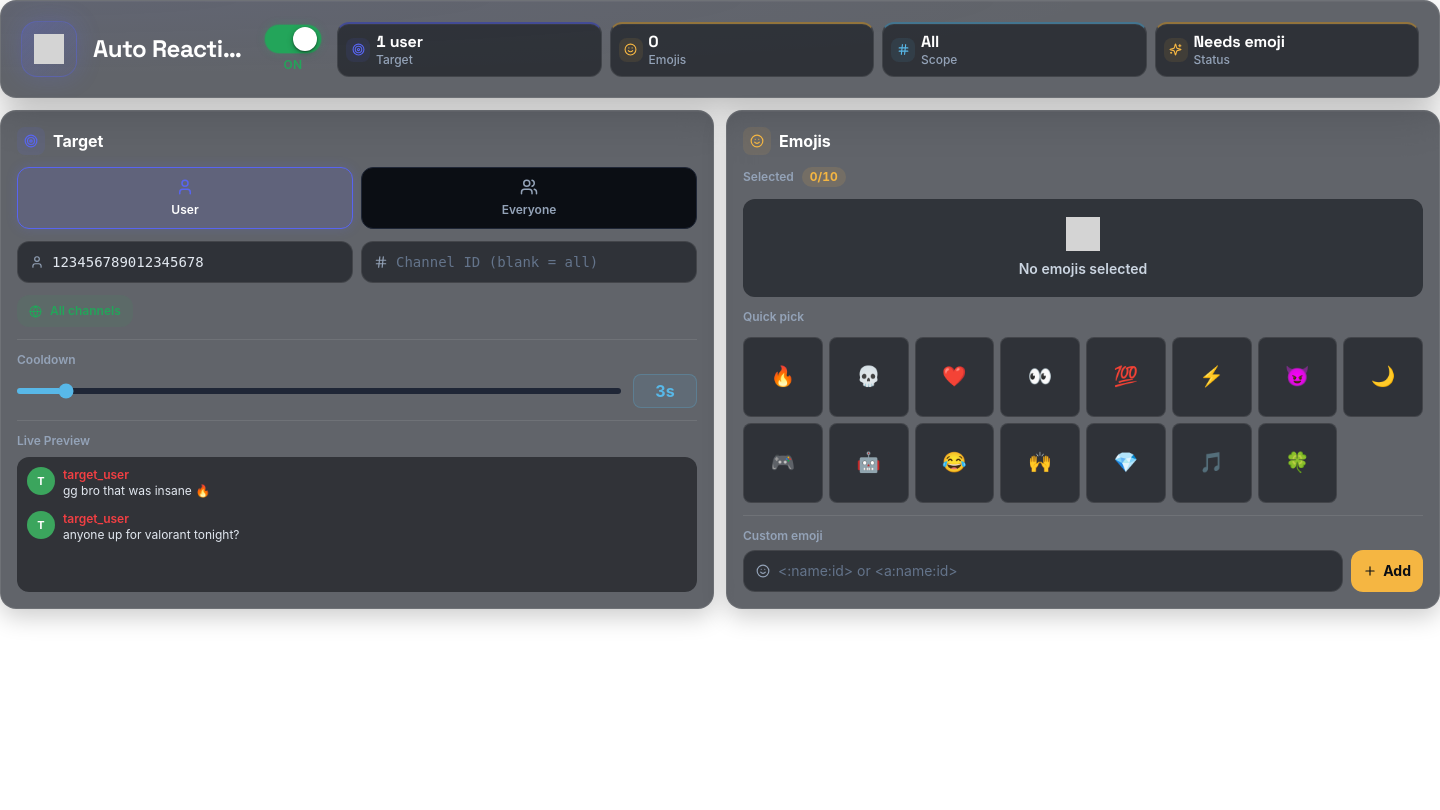
Test: ReactionsFeature emoji palette › adds a pasted custom emoji to Selected and clears the draft
Expected: the text "No emojis selected" is shown, [1019,259,1147,279]
Type "<:lamdieu:1547630841172066410>" into the field with placeholder "<:name:id> or <a:name:id>" at (1054, 570), box [778,550,1330,590]
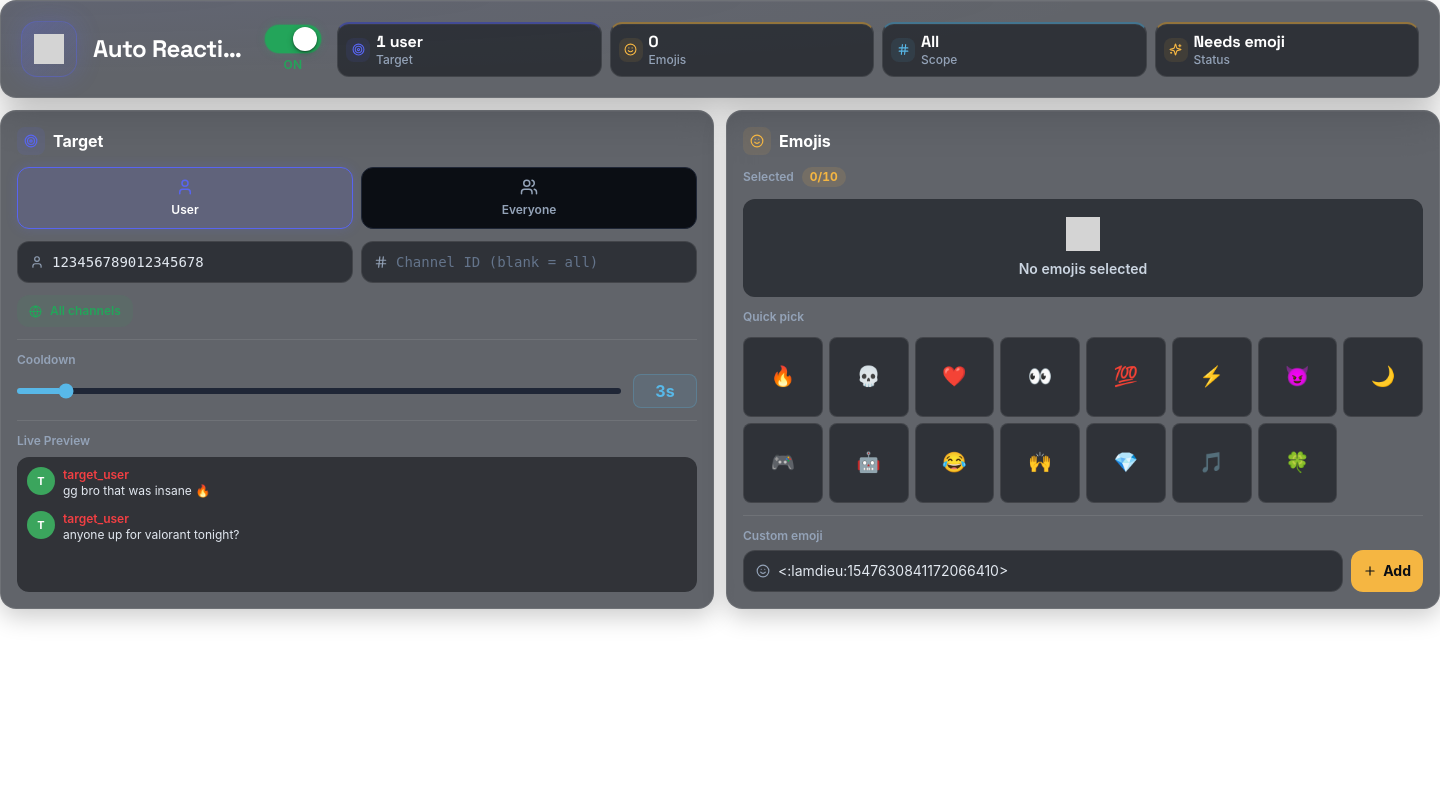
Click the button "Add" at (1387, 570), box [1351,550,1423,592]
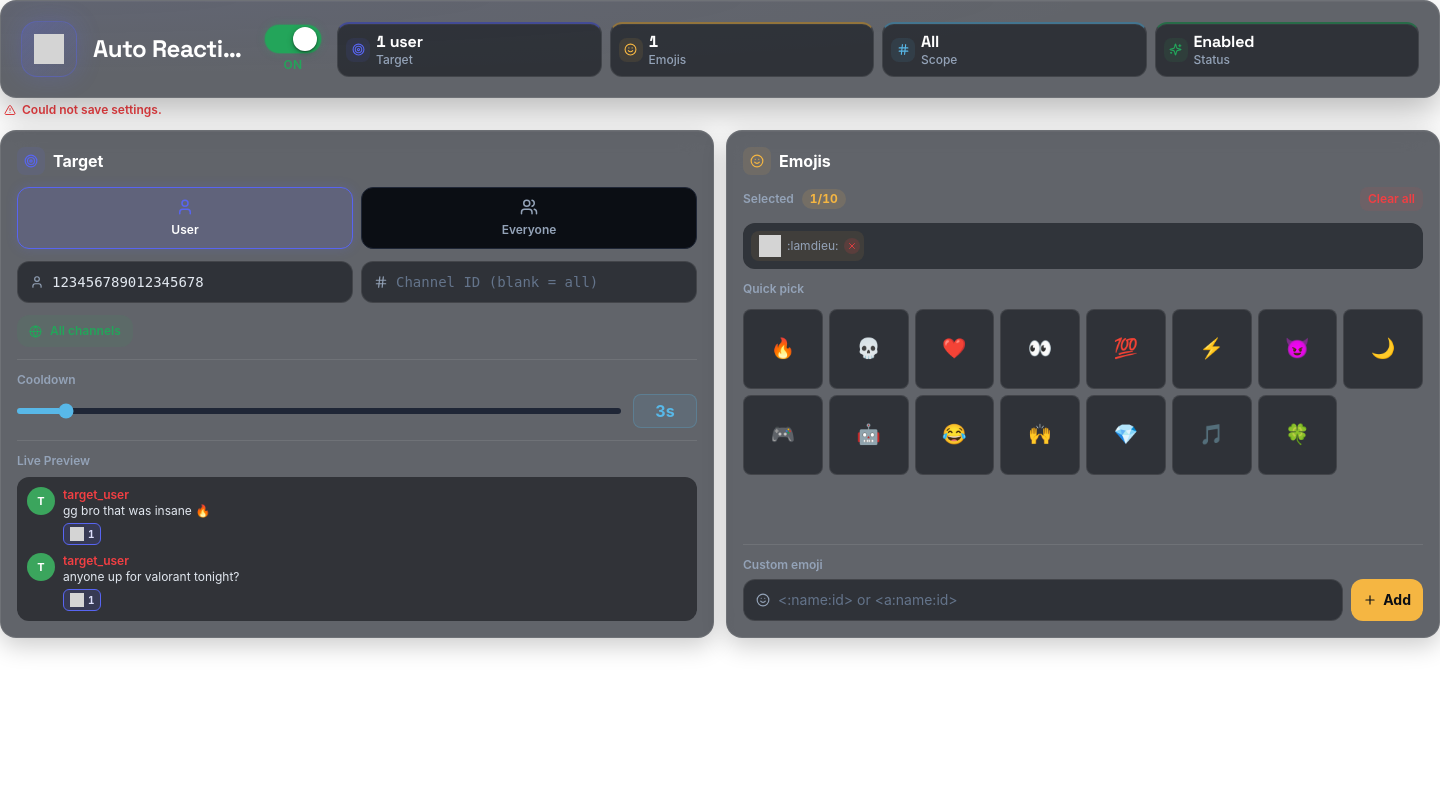
Expected: the text ":lamdieu:" is shown, [787,238,838,254]
Expected: the field with placeholder "<:name:id> or <a:name:id>" is empty, [778,580,1330,620]
